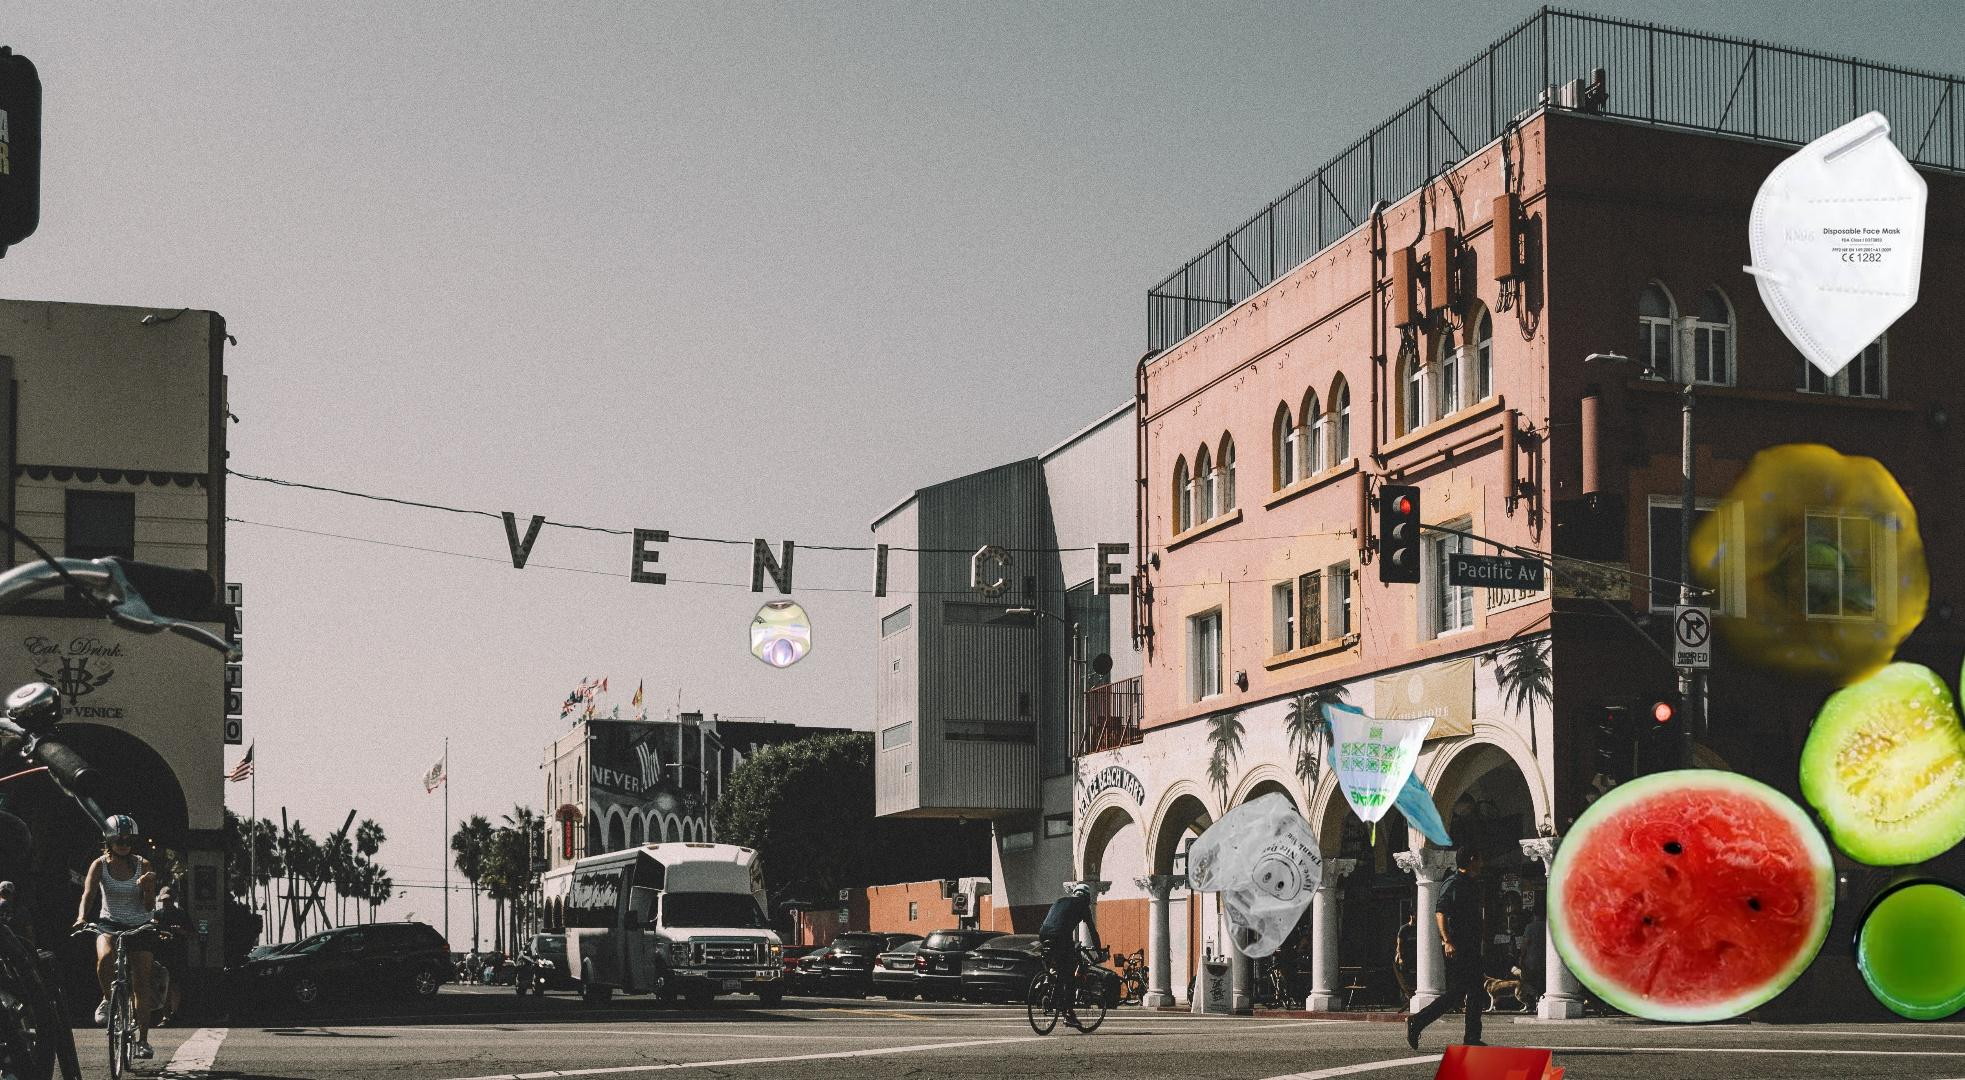biological: (1536, 380, 1965, 1041)
metal-cans: (545, 595, 816, 809)
paper-bag: (1392, 1041, 1581, 1080)
plastic-bag: (1185, 697, 1457, 964)
trash: (1743, 108, 1929, 378)
